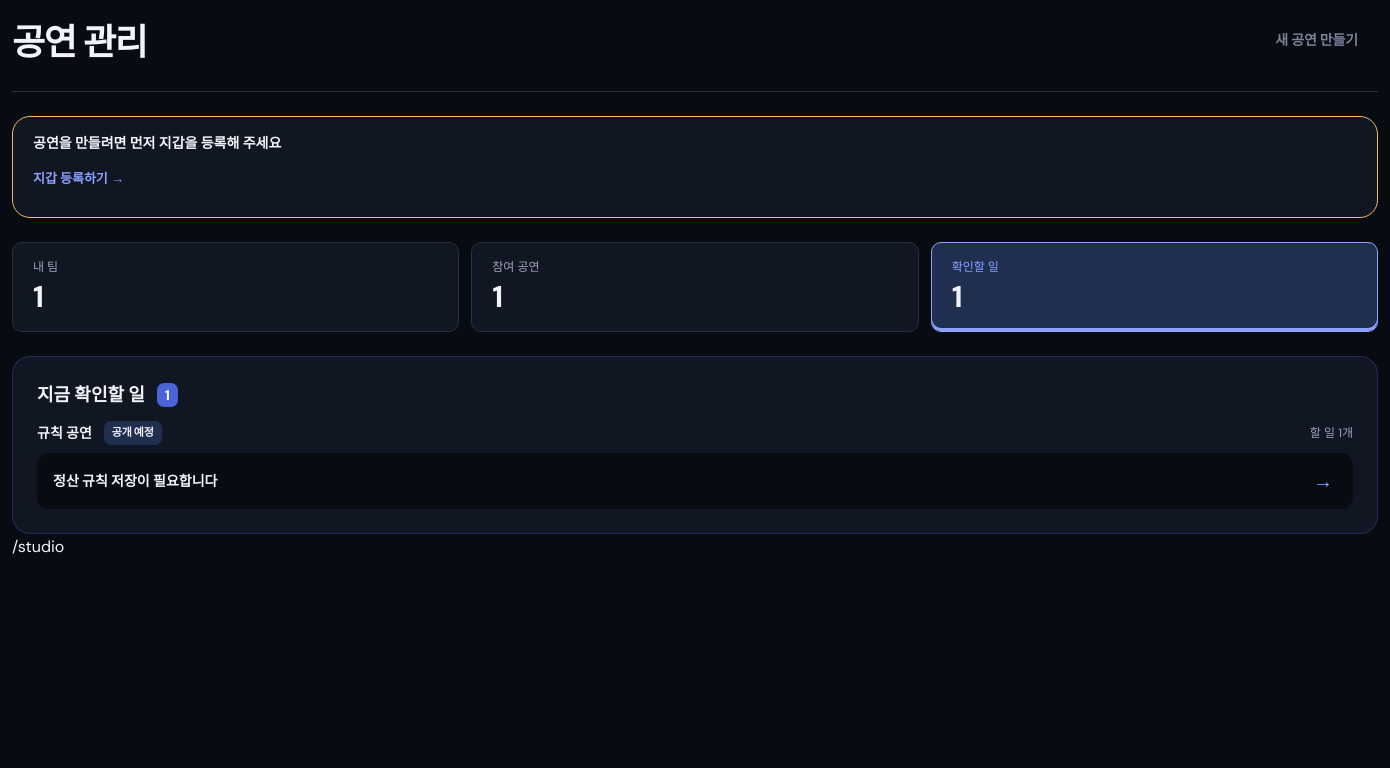
Test: 타일을 누르면 스크롤 없이 영역이 바뀌고 ?view= 에 남는다
Click the tab "내 팀 1".
click(46, 267)  # box [12,242,459,332]
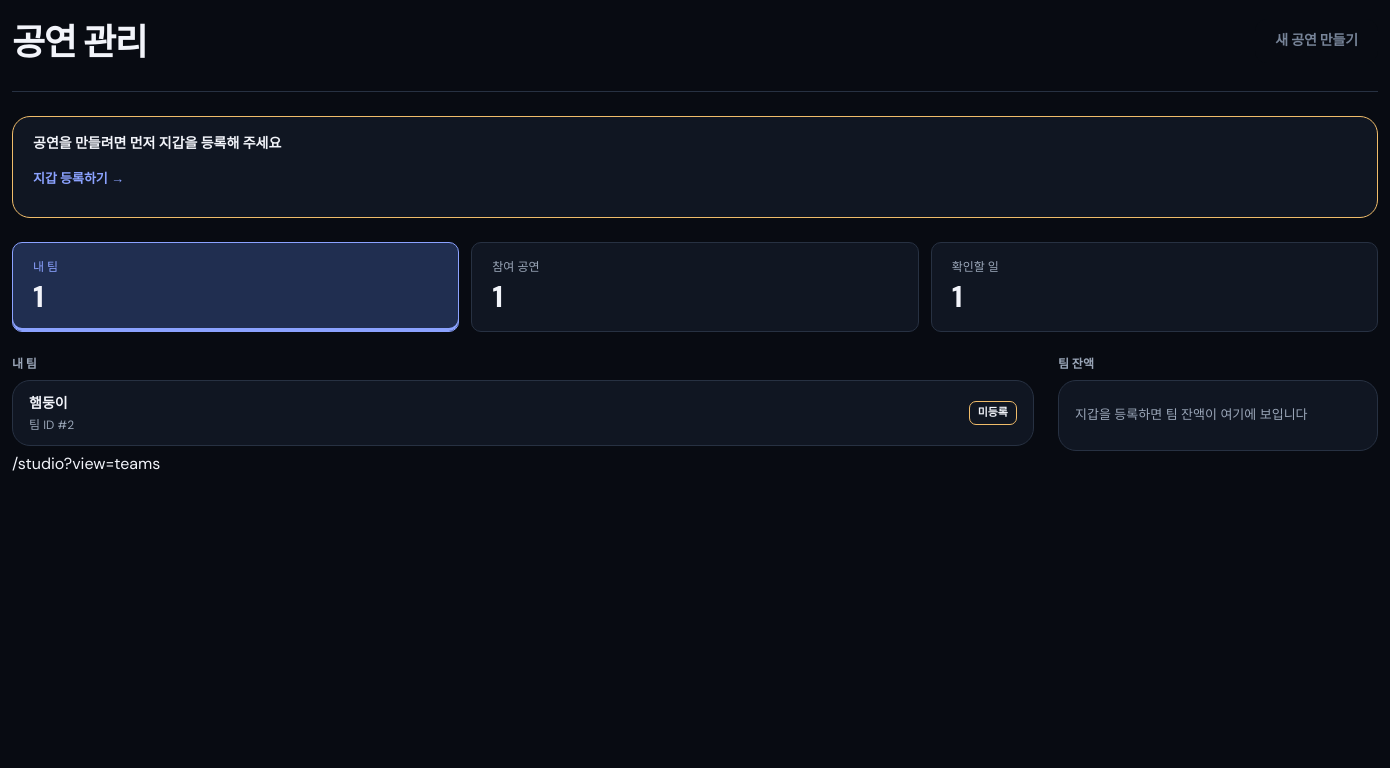
Check: the link "햄둥이 팀 ID #2 미등록" is shown, box [12,380,1034,446]
Check: the text with test id "location" reads "/studio?view=teams", box [12,453,160,474]
Click the tab "참여 공연 1".
click(516, 267)  # box [471,242,919,332]
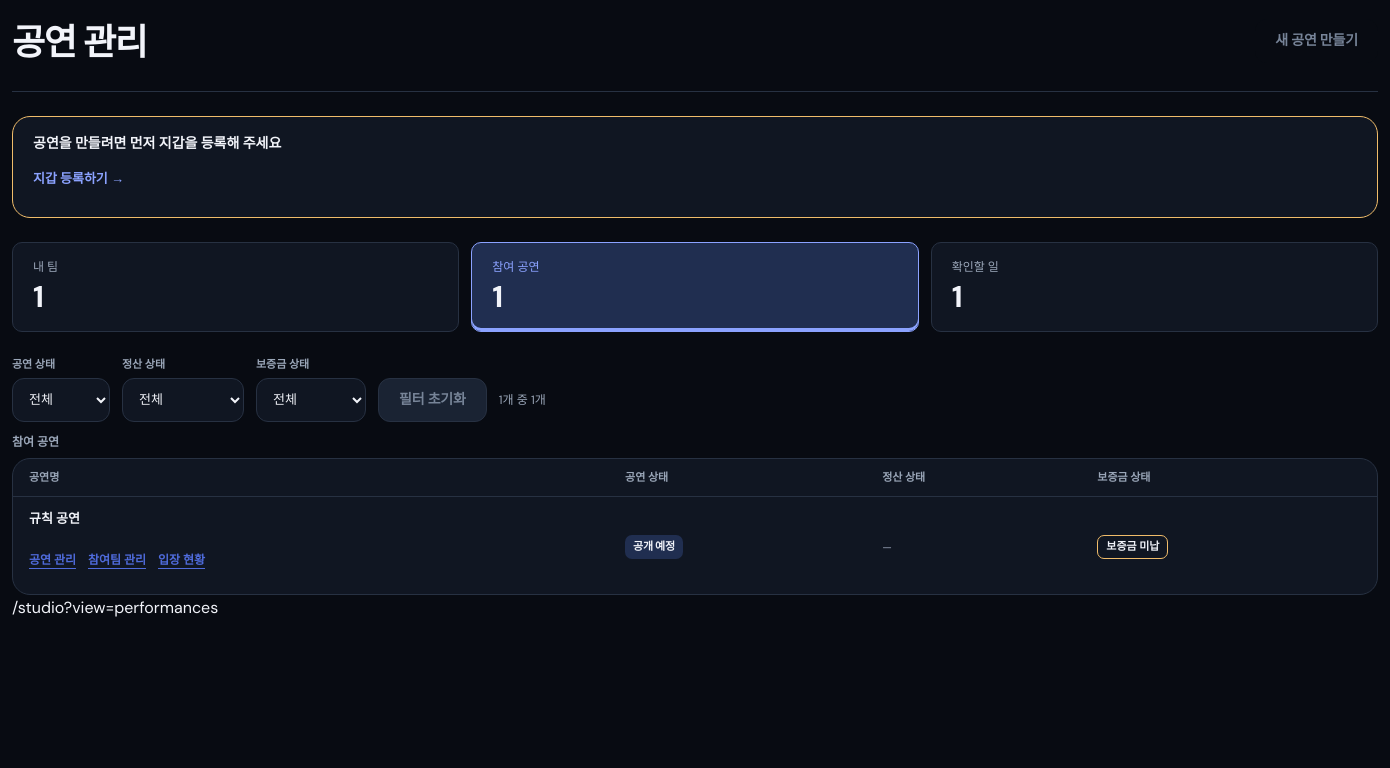
Check: the text with test id "location" reads "/studio?view=performances", box [12,597,218,618]
Check: the link "규칙 공연" is shown, box [29,510,80,527]
